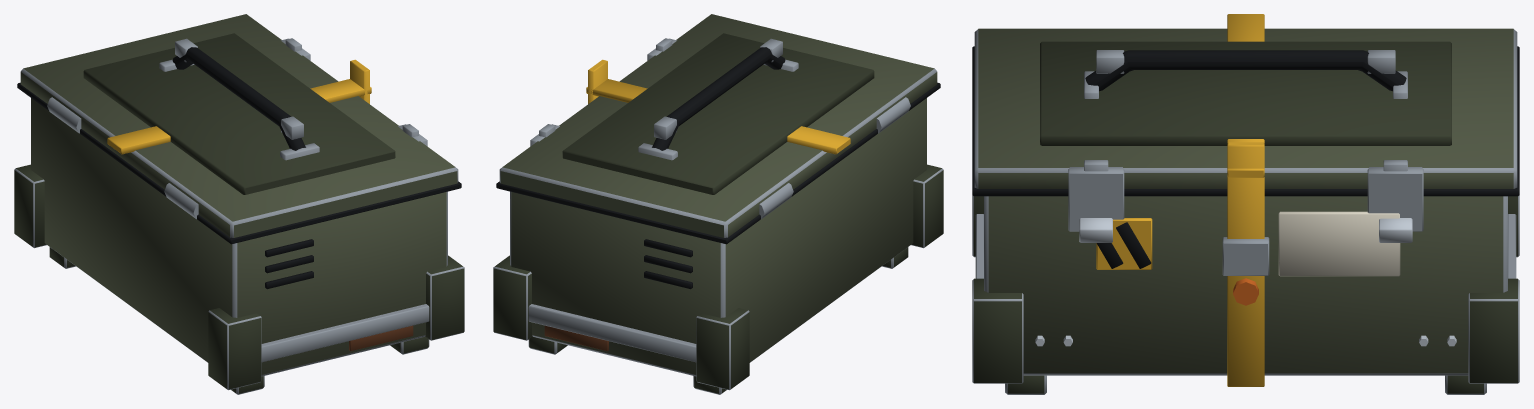
Rendered from caja_suministros_pequena.glb.
The picture shows the model from 3 angles, left to right: view 1: azimuth 30°, elevation 25°; view 2: azimuth 150°, elevation 25°; view 3: azimuth 270°, elevation 25°; orthographic projection. The views are drawn at different scales.
Parts seen in each view (by area): view 1: cuerpo, tapa, rehundido, esquinero_1, banda_1, esquinero_2, junta_tapa, asa, esquinero_3, precinto_tapa, roce_1, bisagra_2 (+4 smaller); view 2: cuerpo, tapa, rehundido, esquinero_3, banda_2, esquinero_4, junta_tapa, asa, esquinero_1, precinto_tapa, roce_2, bisagra_1 (+4 smaller); view 3: cuerpo, tapa, rehundido, placa_etiqueta, precinto, asa, esquinero_2, esquinero_4, junta_tapa, cierre_base_1, cierre_base_2, hebilla (+12 smaller).
Boxes of the visible parts, bbox=[...] form: cuerpo: bbox=[31, 98, 447, 376]; tapa: bbox=[20, 14, 458, 237]; rehundido: bbox=[83, 33, 395, 194]; esquinero_1: bbox=[208, 308, 261, 390]; banda_1: bbox=[261, 304, 429, 362]; esquinero_2: bbox=[425, 255, 464, 340]; junta_tapa: bbox=[17, 82, 461, 244]; asa: bbox=[172, 47, 305, 150]; esquinero_3: bbox=[14, 164, 46, 248]; precinto_tapa: bbox=[107, 79, 371, 154]; roce_1: bbox=[349, 325, 413, 351]; bisagra_2: bbox=[47, 97, 81, 133]; cuerpo: bbox=[510, 98, 926, 376]; tapa: bbox=[499, 14, 937, 237]; rehundido: bbox=[562, 33, 874, 194]; esquinero_3: bbox=[696, 308, 749, 390]; banda_2: bbox=[528, 304, 696, 362]; esquinero_4: bbox=[493, 255, 532, 340]; junta_tapa: bbox=[496, 82, 940, 244]; asa: bbox=[652, 47, 785, 150]; esquinero_1: bbox=[911, 164, 943, 248]; precinto_tapa: bbox=[586, 79, 850, 154]; roce_2: bbox=[544, 325, 608, 351]; bisagra_1: bbox=[876, 97, 910, 133]; cuerpo: bbox=[984, 196, 1507, 375]; tapa: bbox=[974, 28, 1517, 188]; rehundido: bbox=[1040, 41, 1451, 145]; placa_etiqueta: bbox=[1278, 211, 1400, 276]; precinto: bbox=[1227, 142, 1264, 386]; asa: bbox=[1085, 50, 1406, 91]; esquinero_2: bbox=[972, 278, 1023, 383]; esquinero_4: bbox=[1468, 278, 1519, 383]; junta_tapa: bbox=[972, 46, 1519, 196]; cierre_base_1: bbox=[1068, 167, 1124, 231]; cierre_base_2: bbox=[1367, 167, 1423, 231]; hebilla: bbox=[1222, 237, 1269, 275].
Size of the model in its own units: 0.4034 by 0.3354 by 0.585.
